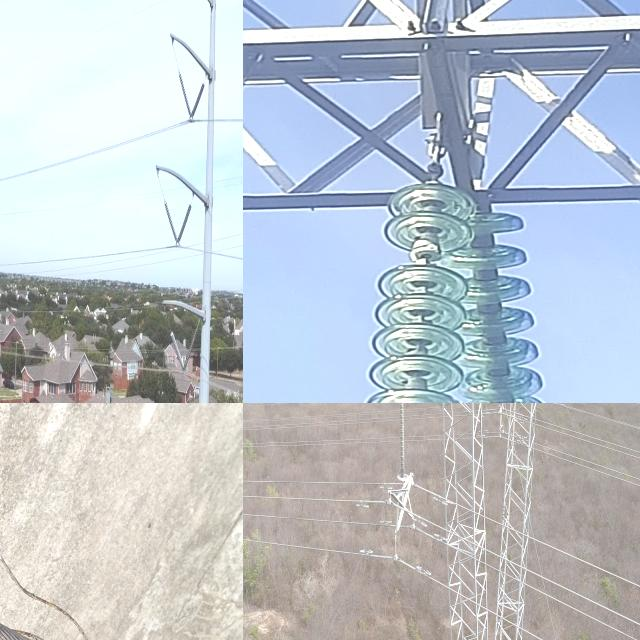杆塔: (440, 403, 539, 640)
正常电缆: (243, 531, 440, 593), (243, 508, 442, 548), (243, 491, 441, 531), (532, 582, 640, 640), (534, 569, 640, 627), (539, 538, 640, 592), (539, 449, 640, 490), (540, 443, 640, 482), (542, 425, 640, 461), (543, 419, 640, 454), (545, 403, 640, 431), (243, 473, 386, 489), (243, 409, 388, 423), (243, 438, 388, 447), (416, 481, 440, 503)
正常绝缘子: (364, 181, 480, 403), (451, 199, 565, 403), (157, 189, 183, 253), (170, 195, 195, 258), (172, 64, 197, 125), (182, 75, 208, 133), (165, 316, 187, 377), (178, 320, 199, 381), (394, 403, 408, 484)
电缆破损: (0, 499, 133, 640)
绝缘子破损: (407, 242, 444, 263)
